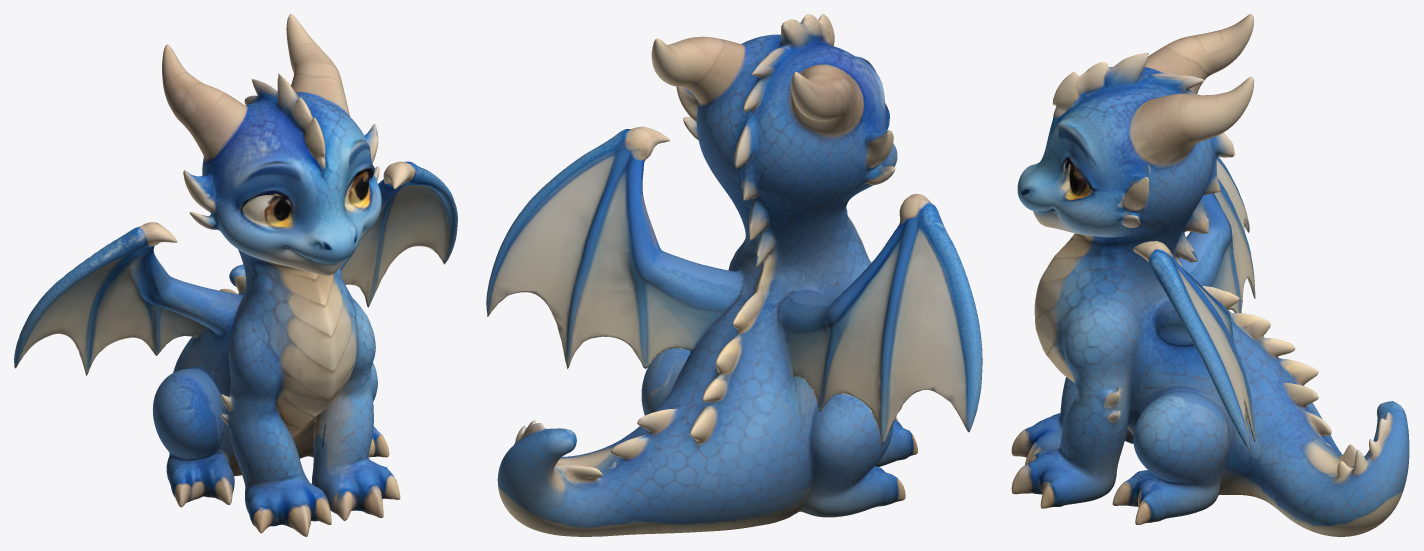
The model's file is comparison-rodin.glb.
The picture shows the model from 3 angles, left to right: view 1: azimuth 30°, elevation 25°; view 2: azimuth 150°, elevation 25°; view 3: azimuth 270°, elevation 25°; orthographic projection. The views are drawn at different scales.
Parts seen in each view (by area): view 1: model; view 2: model; view 3: model.
Part boxes in pixels (box(x1,y1,x2,y2)): model: box(14, 14, 457, 536); model: box(486, 14, 982, 536); model: box(1011, 14, 1409, 536).
Bounding box in the file's own units: 1.9 × 1.75 × 1.45.
Materials: 1 (1 with a texture image).
